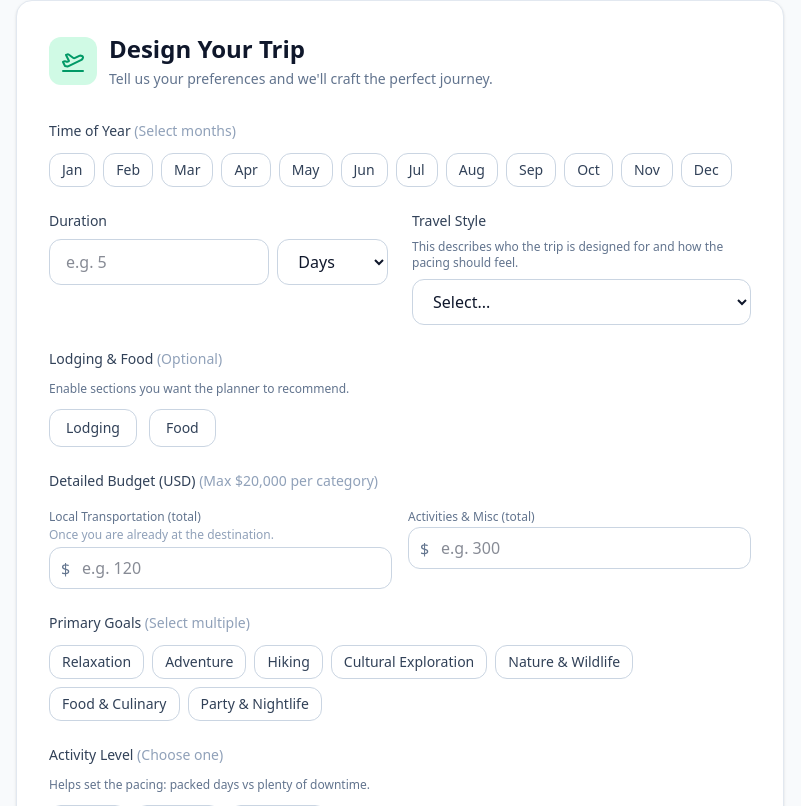
Test case: TravelForm Component › toggles lodging sections when Lodging button is clicked
The width and height of the screenshot is (801, 806).
Check: the text "Lodging (per night)" is not shown
Click the button "Lodging".
click(93, 428)  # box [49,409,137,447]
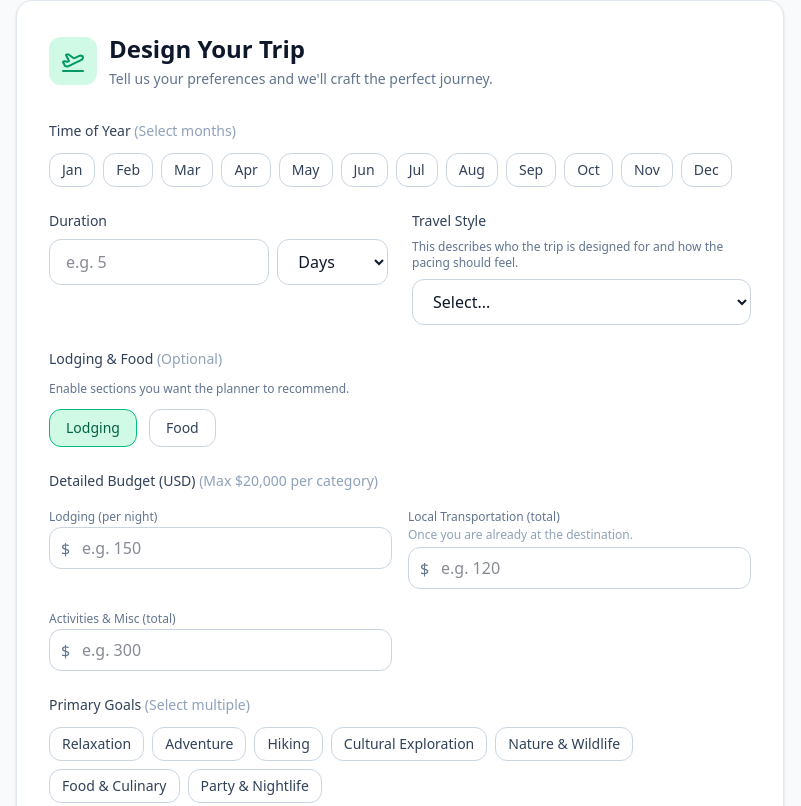
Check: the text "Lodging (per night)" is shown, box [49,508,157,525]
